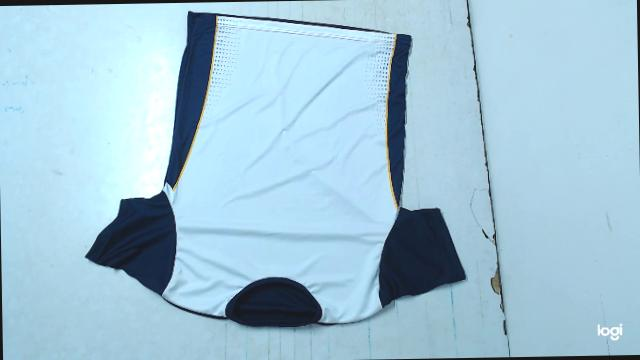new-garment: (87, 12, 463, 326)
